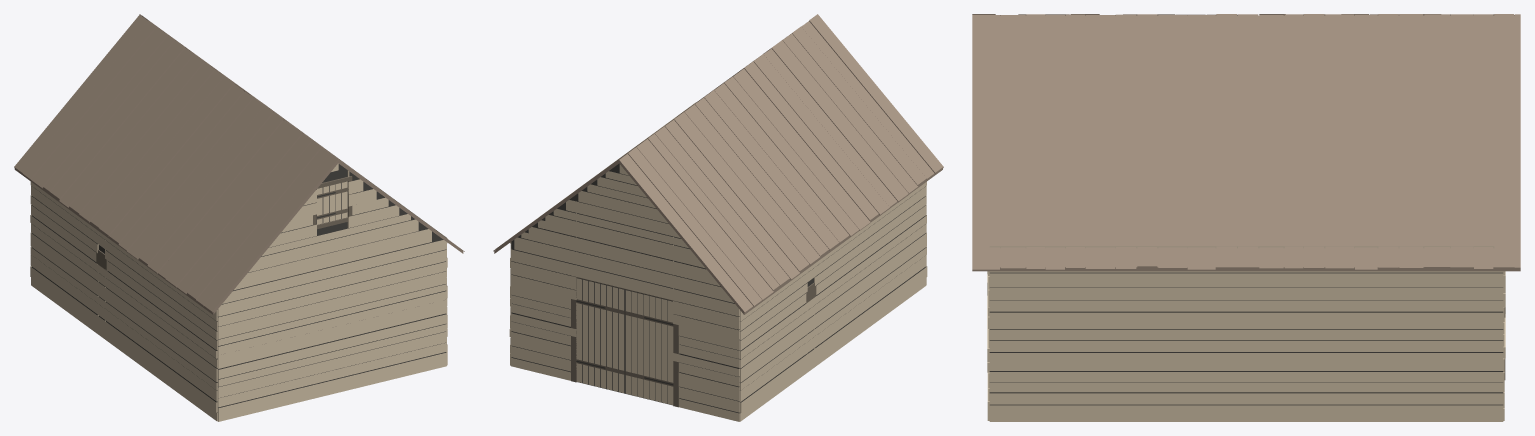
The model's file is recon_1835_north_a2_033__inferred_1835.glb.
3 renders of one model, left to right at view 1: azimuth 30°, elevation 25°; view 2: azimuth 150°, elevation 25°; view 3: azimuth 270°, elevation 25°, orthographic. The views are drawn at different scales.
Visible parts, largest first — view 1: recon_1835_north_a2_033__inferred_1835; view 2: recon_1835_north_a2_033__inferred_1835; view 3: recon_1835_north_a2_033__inferred_1835.
Part boxes in pixels (bbox=[...]): recon_1835_north_a2_033__inferred_1835: bbox=[14, 14, 464, 421]; recon_1835_north_a2_033__inferred_1835: bbox=[493, 14, 943, 421]; recon_1835_north_a2_033__inferred_1835: bbox=[972, 14, 1520, 421].
Size of the model in its own units: 7.59 by 6.84 by 10.3.
